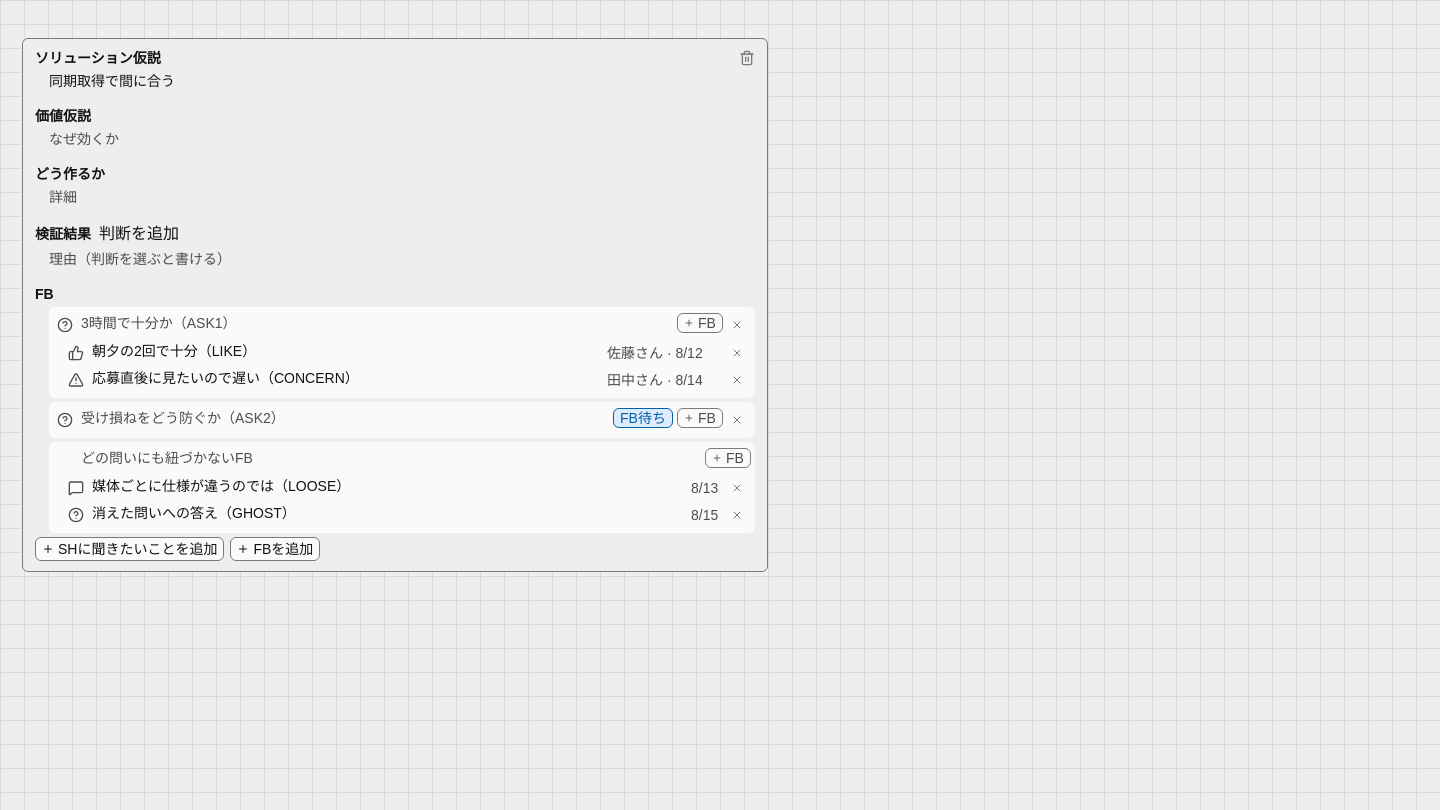
AskBlock: 問いと FB の入れ子 › 問いブロックの「＋FB」は、その問いの askId を渡す
Click the button with aria-label "仮説1 の聞きたいこと2にFBを足す" at (700, 418), box [677, 408, 723, 428]
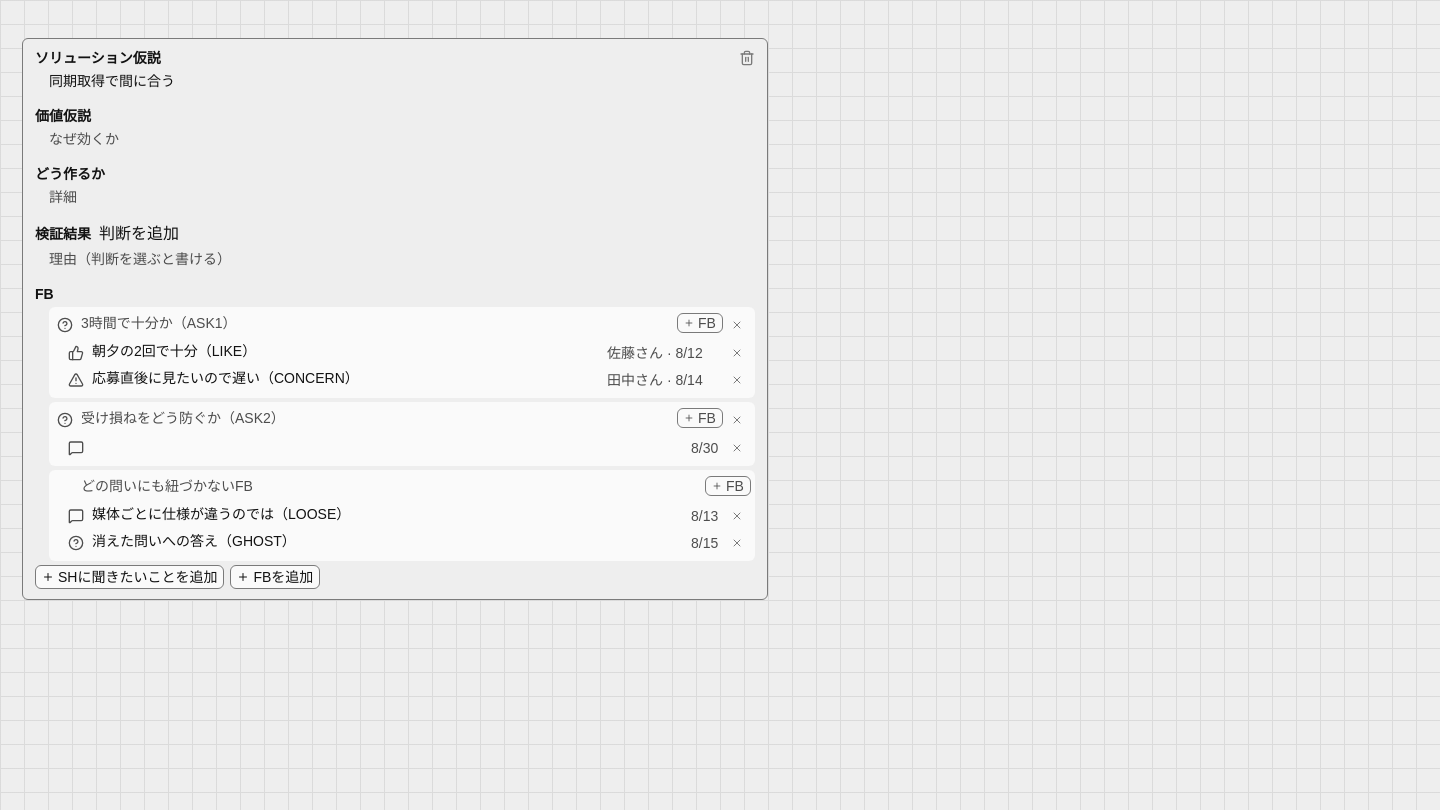
Expected: the text "FB待ち" is gone
